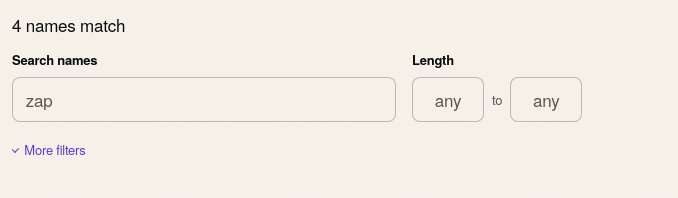
Scenario: Toolbar length range › stops saying so once the box is corrected
The image size is (678, 198).
Type "3.5" into the number field named "Shortest label length".
click(448, 100); type("3.5")  # box 412,77 -> 484,122
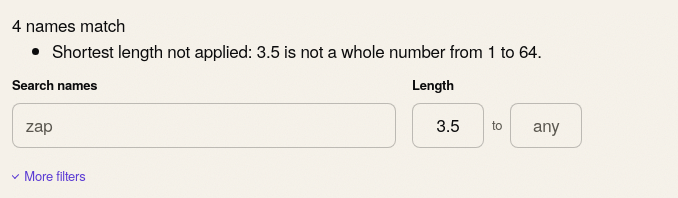
Result: the list "not applied" is shown at 52,38 -> 542,62
Replace the text in the number field named "Shortest label length" with "4" at x=448, y=125, box 412,102 -> 484,148
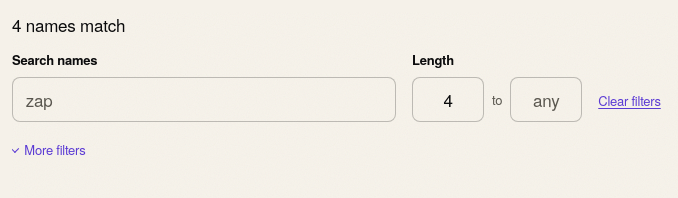
Result: the list item "not applied" is gone
